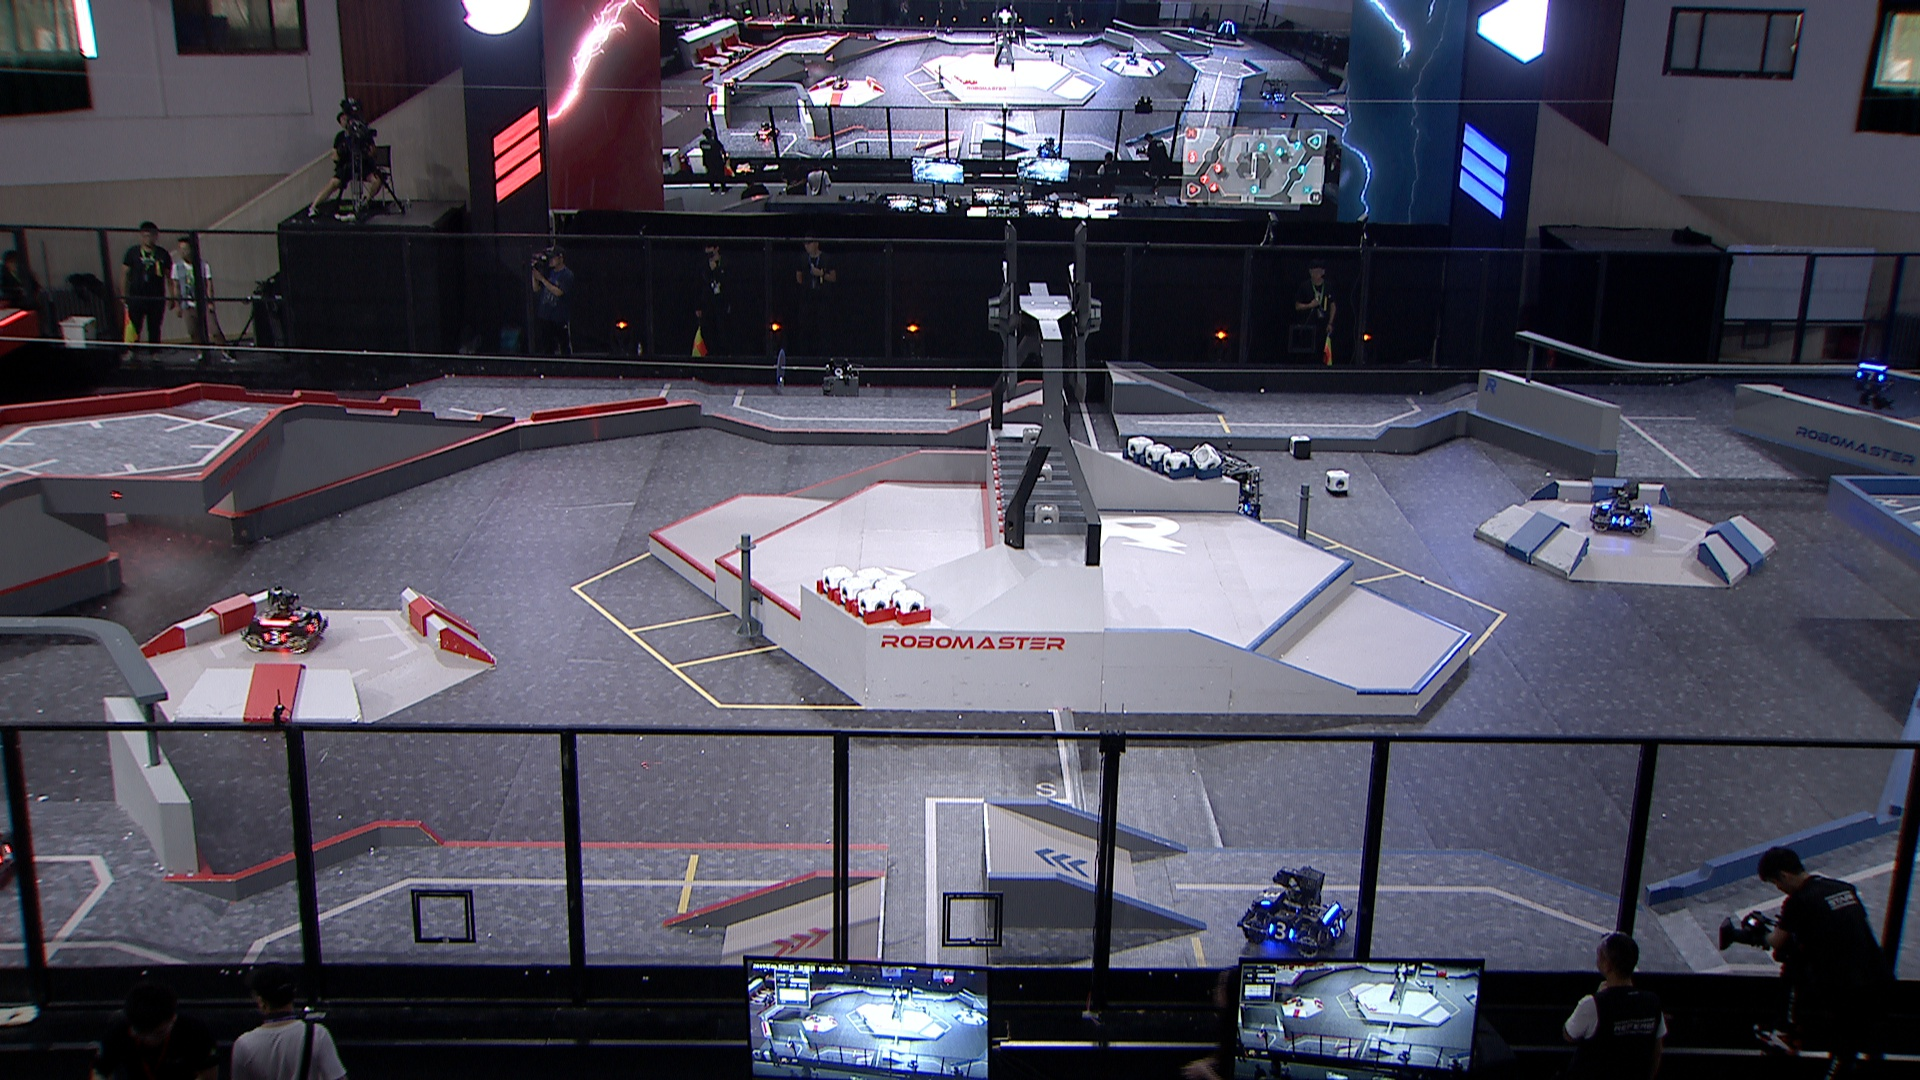armor: (1265, 920, 1296, 943), (1257, 887, 1283, 907), (1327, 915, 1344, 942), (262, 629, 289, 646), (1854, 368, 1884, 382), (1610, 513, 1633, 527), (289, 609, 310, 622), (305, 618, 320, 636), (1234, 501, 1250, 516)
car: (1238, 864, 1352, 963), (1178, 447, 1265, 531), (240, 584, 327, 651), (1588, 483, 1655, 535)
ignore: (1258, 76, 1288, 105), (756, 120, 782, 144), (1211, 20, 1240, 41), (1035, 136, 1060, 158), (721, 76, 740, 98), (828, 74, 849, 91), (1124, 51, 1139, 65)
watcher: (1851, 360, 1898, 409)
